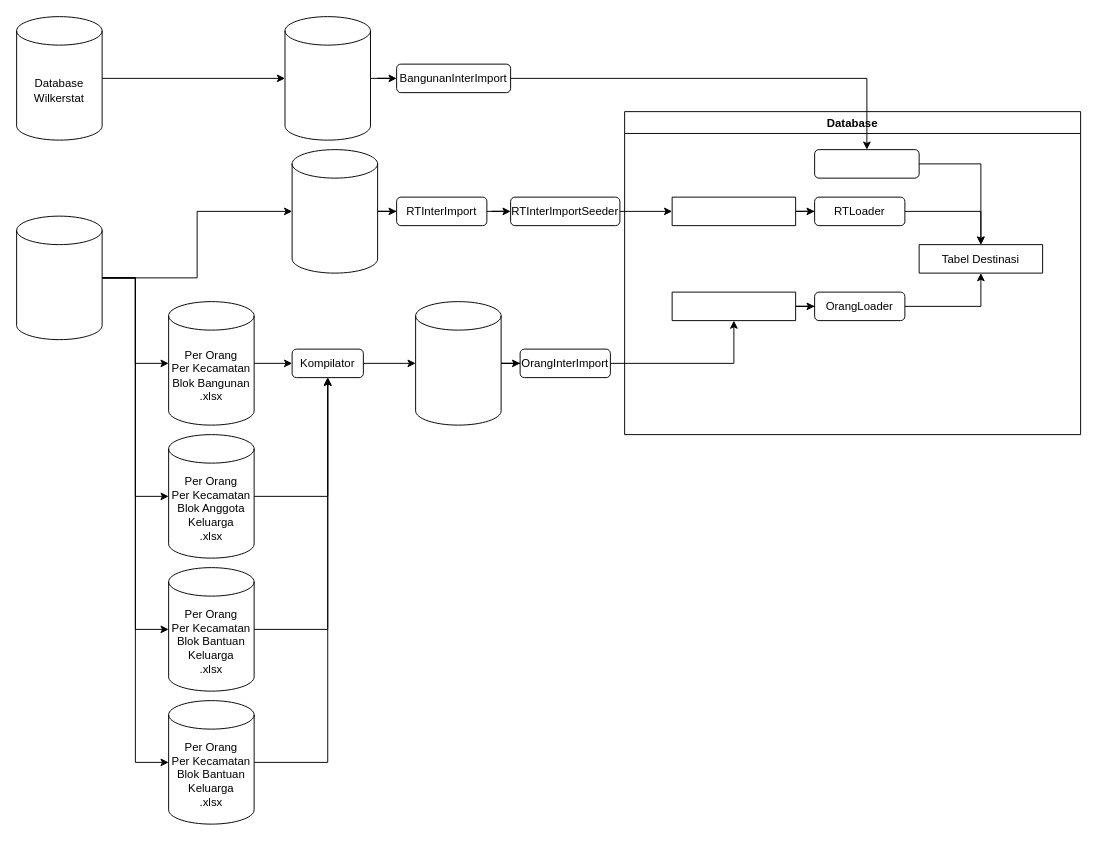
The diagram is 1097 pixels wide and 841 high, and some of its shapes have lost their labels. Each missing label, with the centre of its shape:
"BangunanLoader" belongs at point 866,163.
"Database Regsosek" belongs at point 59,277.
"Inter Tabel Orang" belongs at point 733,306.
"Inter Tabel RT" belongs at point 733,211.
"Per Bangunan (Query Miskin Ekstrim) .xlsx" belongs at point 327,78.
"Per Orang .xlsx" belongs at point 458,363.
"Per Ruta Blok Bangunan (Query Miskin Ekstrim) .xlsx" belongs at point 334,211.
